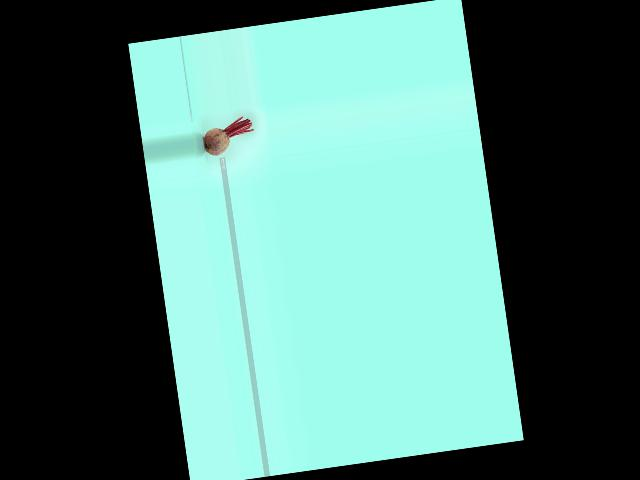beet: (201, 115, 256, 157)
